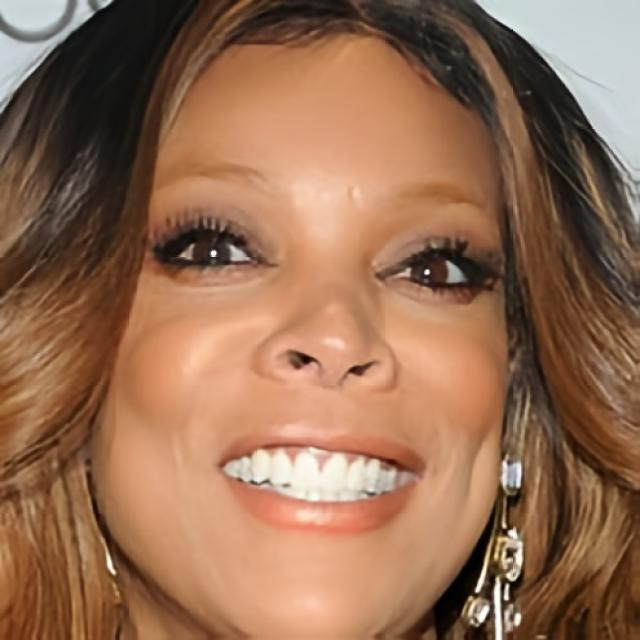happy: (103, 63, 512, 639)
